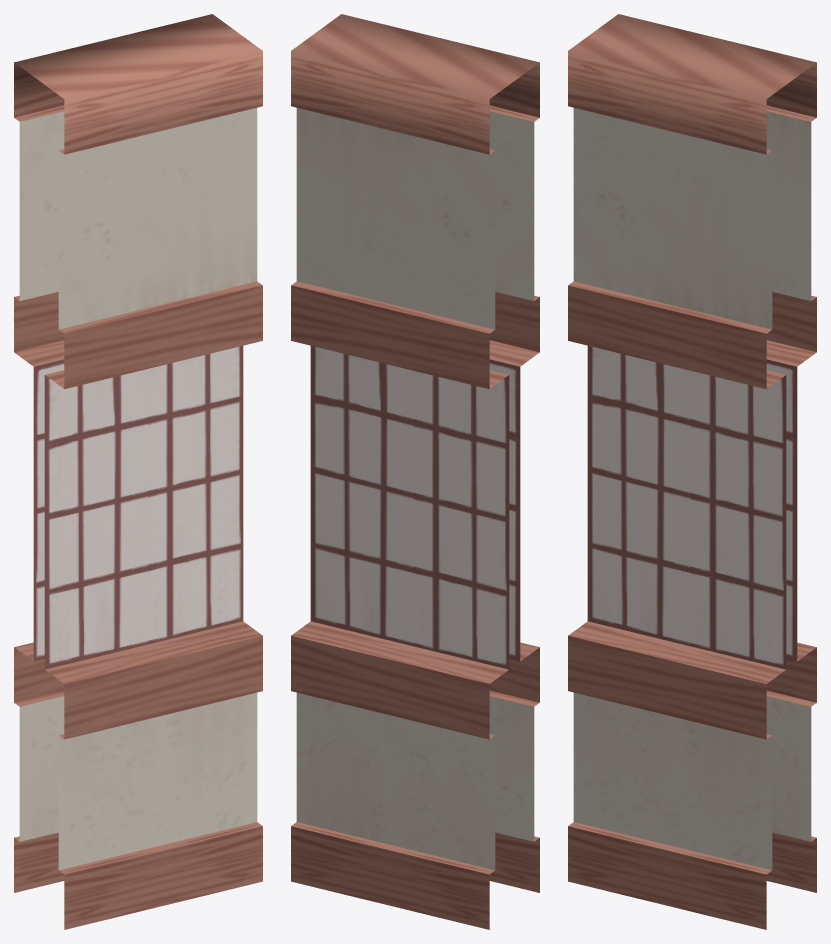
Rendered from paret_finestra_centre_noSop.fbx.
3 views of the same model, side by side, from view 1: azimuth 30°, elevation 25°; view 2: azimuth 150°, elevation 25°; view 3: azimuth 330°, elevation 25° (orthographic).
Visible parts, largest first — view 1: Pared_Ventana_Centro_No Sop; view 2: Pared_Ventana_Centro_No Sop; view 3: Pared_Ventana_Centro_No Sop.
Part boxes in pixels (<box>): Pared_Ventana_Centro_No Sop: <box>14,14,262,929</box>; Pared_Ventana_Centro_No Sop: <box>291,14,539,929</box>; Pared_Ventana_Centro_No Sop: <box>568,14,816,929</box>.
Size of the model in its own units: 100 by 400 by 44.
